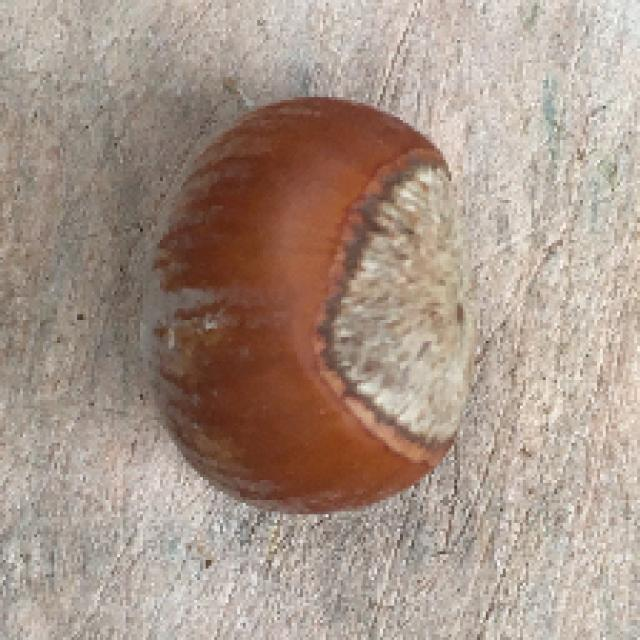QualityHazelnut: (136, 96, 476, 515)
